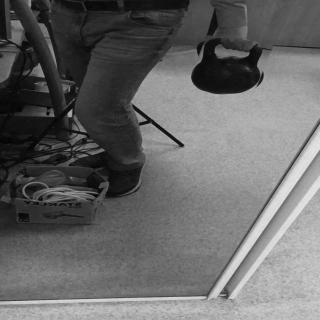kettlebell: (191, 38, 270, 97)
